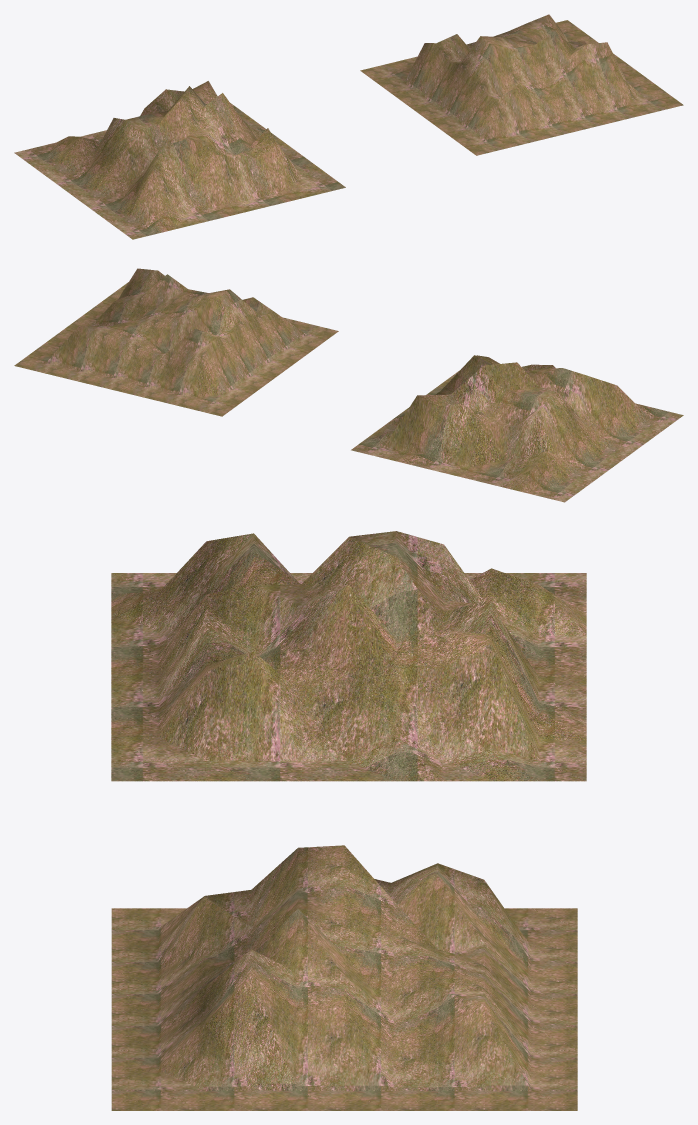
Rendered from Side Mountains Low Poly.FBX.
The picture shows the model from 3 angles, top to bottom: view 1: azimuth 30°, elevation 25°; view 2: azimuth 150°, elevation 25°; view 3: azimuth 270°, elevation 25°; orthographic projection. The views are drawn at different scales.
Visible parts, largest first — view 1: Plane001, Plane002; view 2: Plane001, Plane002; view 3: Plane001, Plane002.
Boxes of the visible parts, bbox=[...] form: Plane001: bbox=[14, 81, 345, 239]; Plane002: bbox=[360, 14, 683, 155]; Plane001: bbox=[351, 355, 683, 502]; Plane002: bbox=[14, 268, 338, 416]; Plane001: bbox=[111, 531, 586, 781]; Plane002: bbox=[111, 845, 577, 1110].
Size of the model in its own units: 371 by 45.28 by 138.
1 material, 1 textured.
